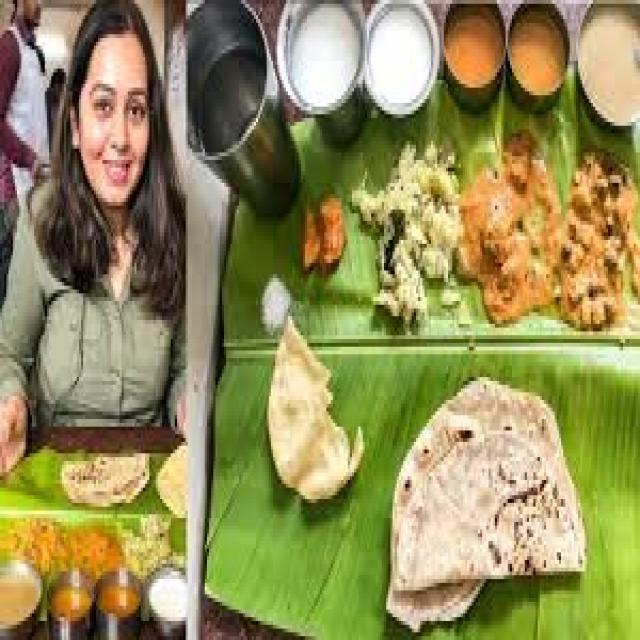curd: (281, 6, 369, 118), (363, 9, 444, 112)
papad: (261, 318, 355, 503)
raita: (278, 1, 368, 118), (361, 9, 444, 116)
roti: (392, 380, 575, 609), (260, 324, 362, 499)
sambar-rasam: (576, 3, 638, 124), (506, 9, 574, 101), (442, 9, 509, 93)
veg-fry: (35, 165, 106, 287), (0, 369, 32, 475)
